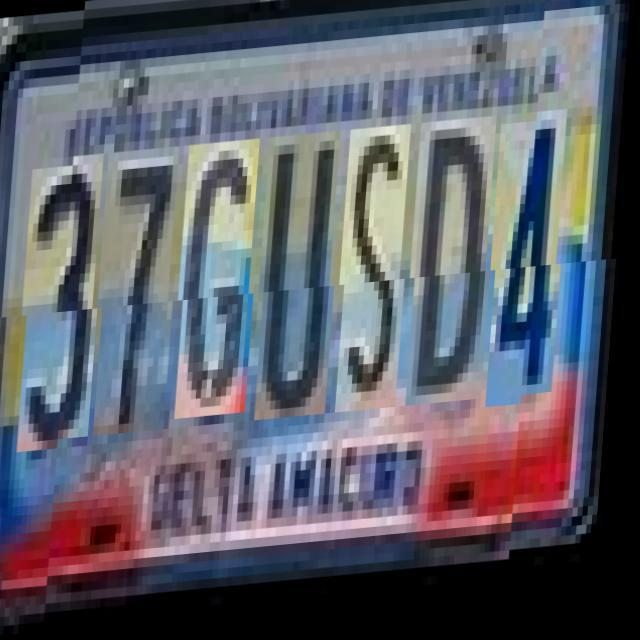3: (24, 156, 111, 444)
4: (492, 130, 574, 418)
7: (100, 150, 187, 439)
D: (412, 126, 504, 415)
G: (182, 143, 268, 423)
S: (342, 132, 418, 420)
U: (261, 138, 348, 426)
